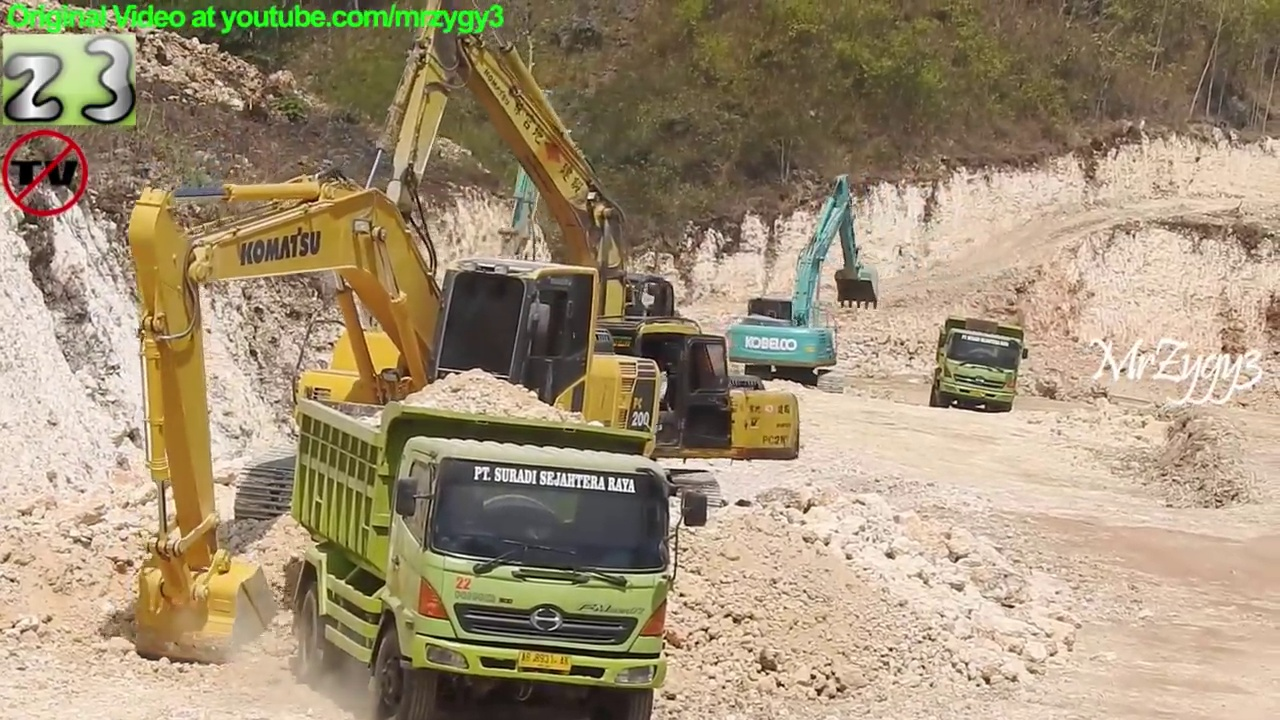excavator: (122, 164, 679, 668), (316, 1, 803, 528), (727, 174, 881, 389)
truck: (289, 390, 717, 720), (927, 313, 1033, 420)
